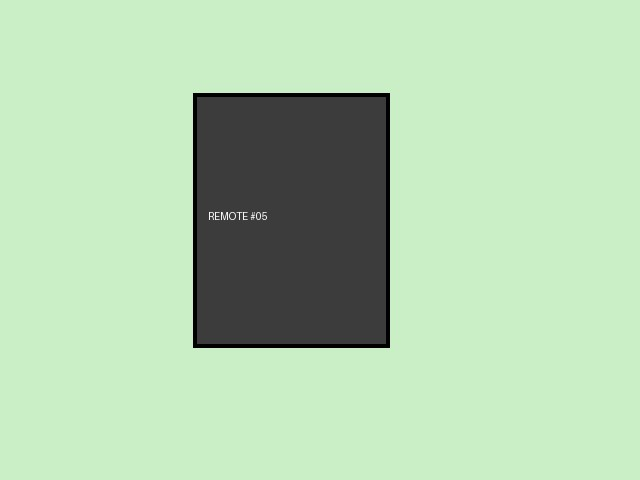remote: (193, 93, 389, 347)
